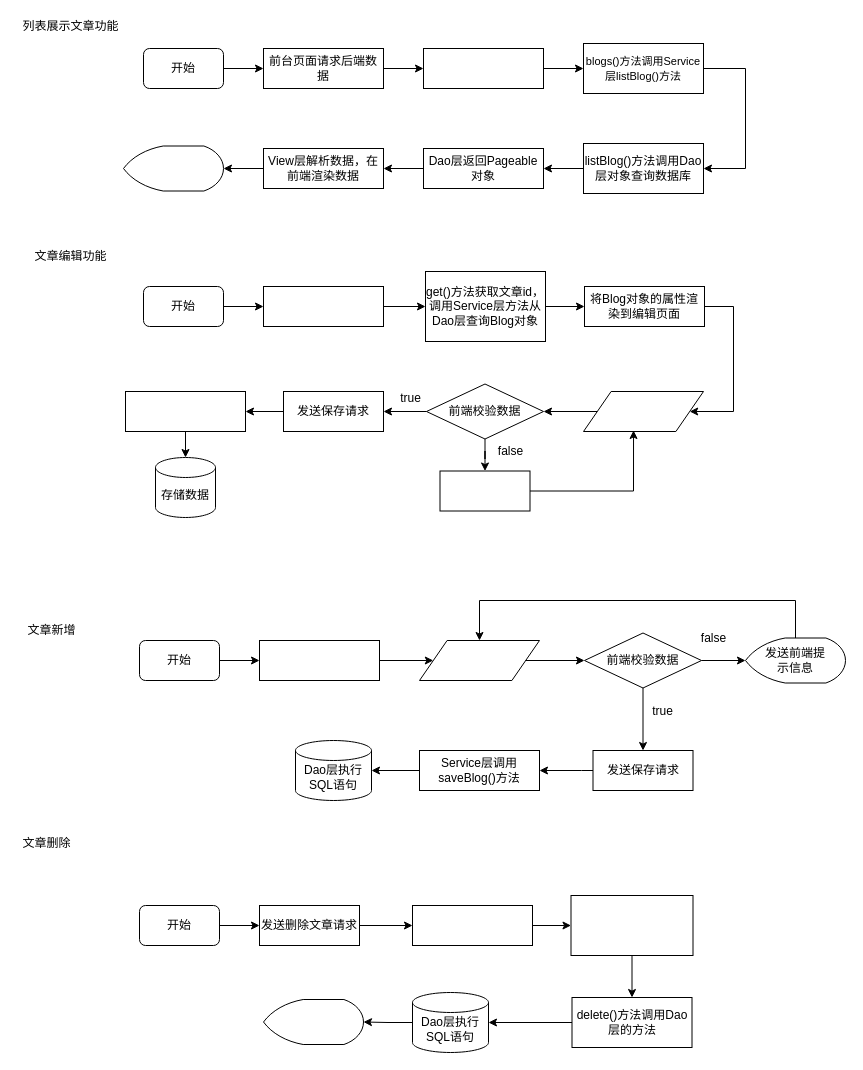
This 863x1070 diagram has some shape labels left out. Each missing label, with the centre of its shape:
"Controller层调用blogs()方法" goes at [483,68].
"Controller层调用Service层的deleteBlog()方法" goes at [631,925].
"get()方法获取文章id" goes at [472,925].
"Service层调用updateBlog()方法" goes at [185,411].
"传入文章数据" goes at [479,660].
"传入更新后 的文章数据" goes at [643,411].
"前端信息提 示删除完成" goes at [313,1021].
"前端页面显示" goes at [173,168].
"发送新增文章请求，跳转到新增页面" goes at [319,660].
"发送编辑文章请求，跳转到编辑页面" goes at [323,306].
"页面提示信息" goes at [484,490].
